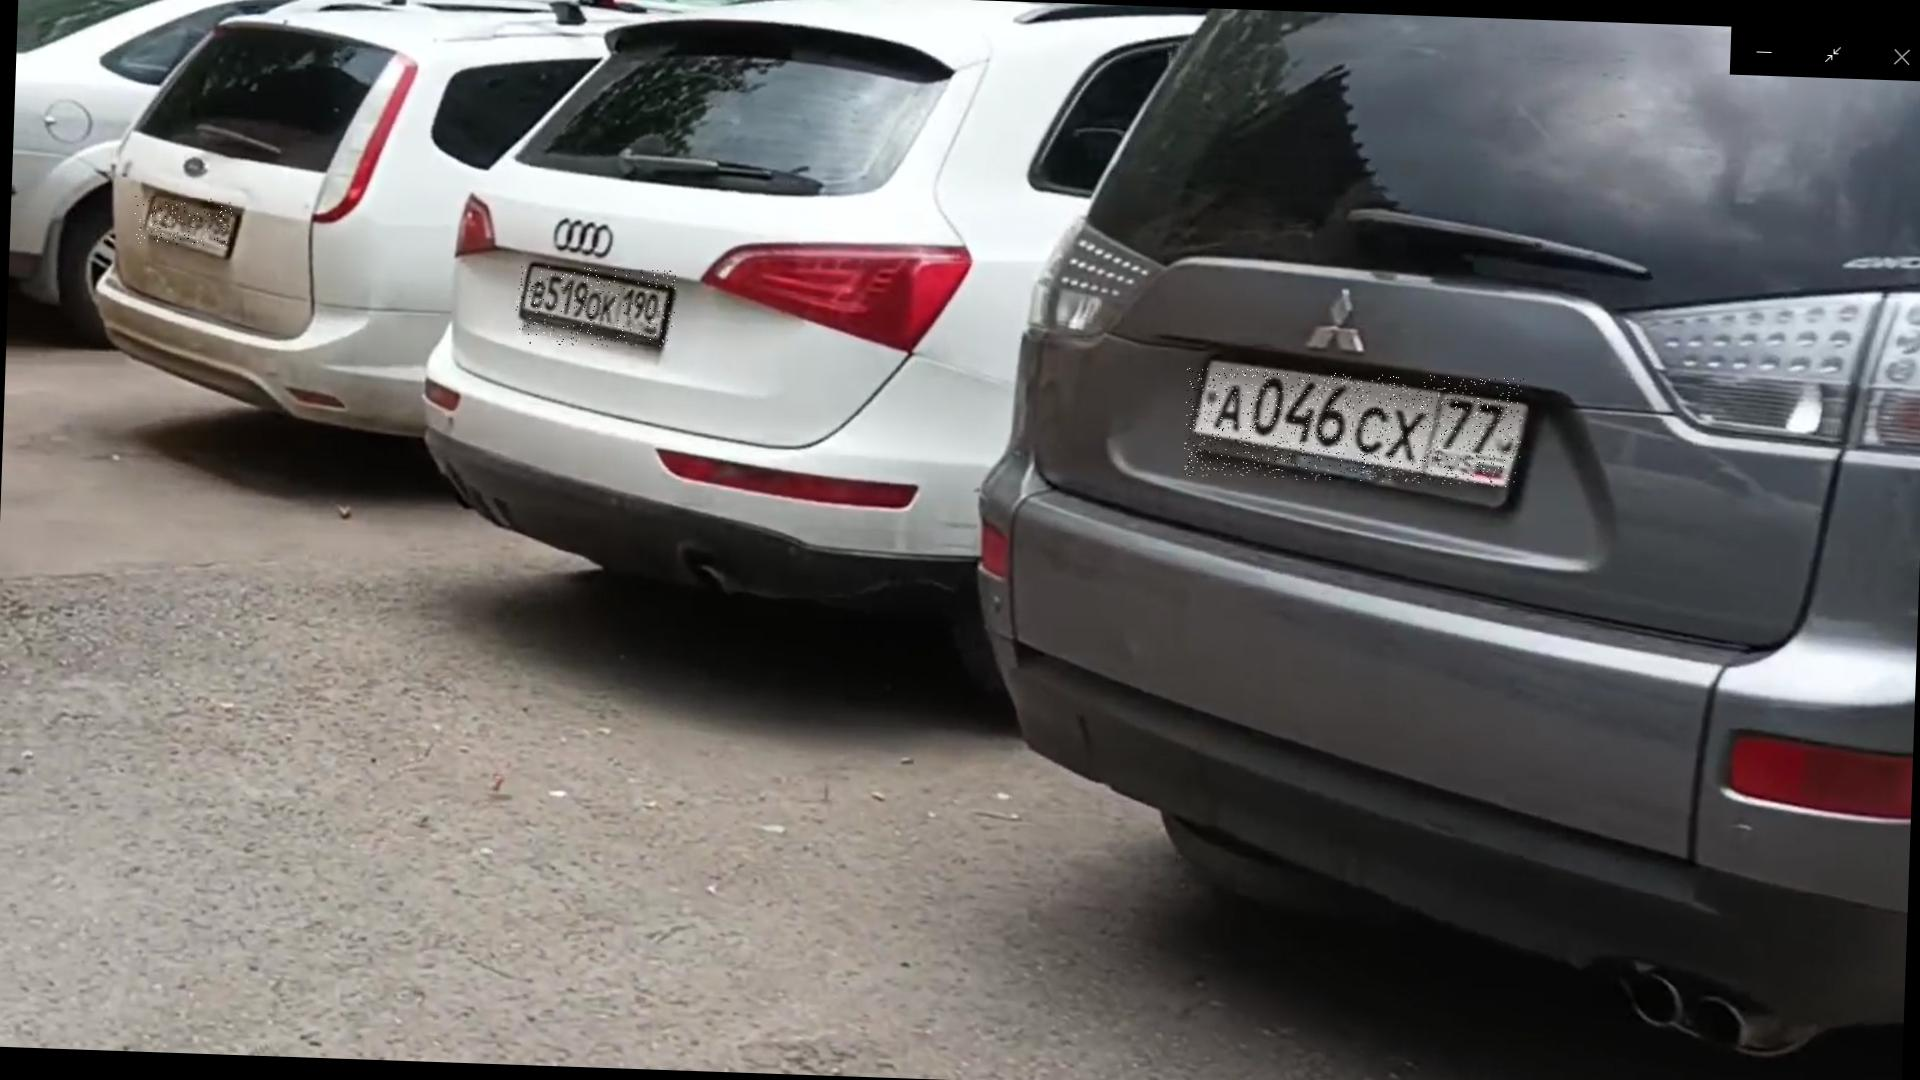plate: (1185, 368, 1526, 489), (516, 268, 678, 351), (136, 198, 236, 249)
